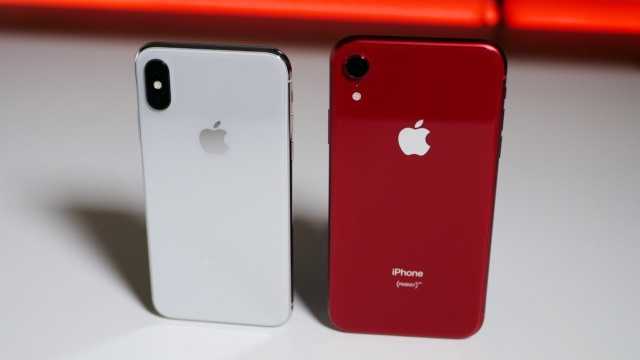apple: (187, 109, 254, 167), (387, 112, 444, 169)
